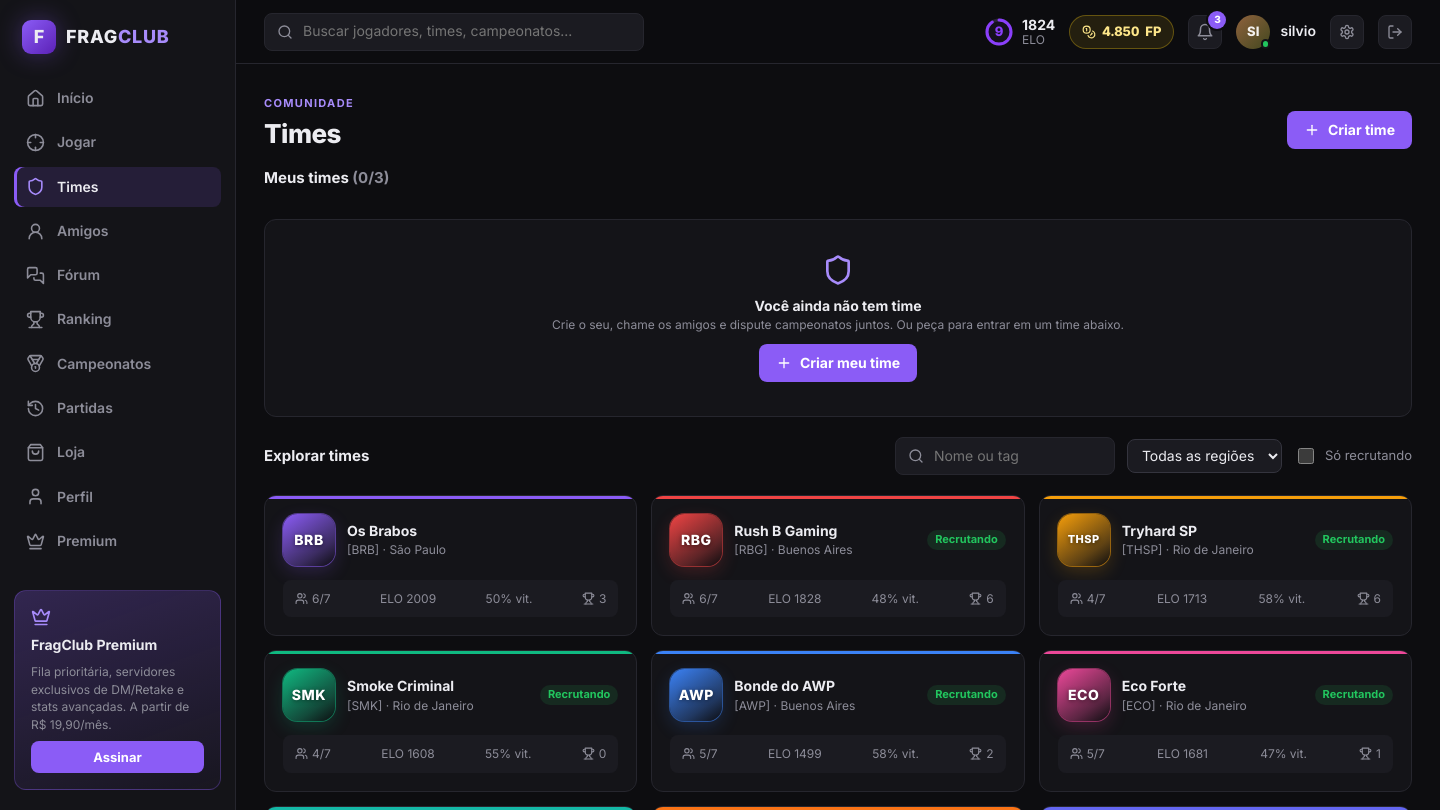
Test: fluxos › criação de time leva para a página do time com você como capitão
Click the button "Criar time": x=1349, y=130 [1287,111,1412,149]
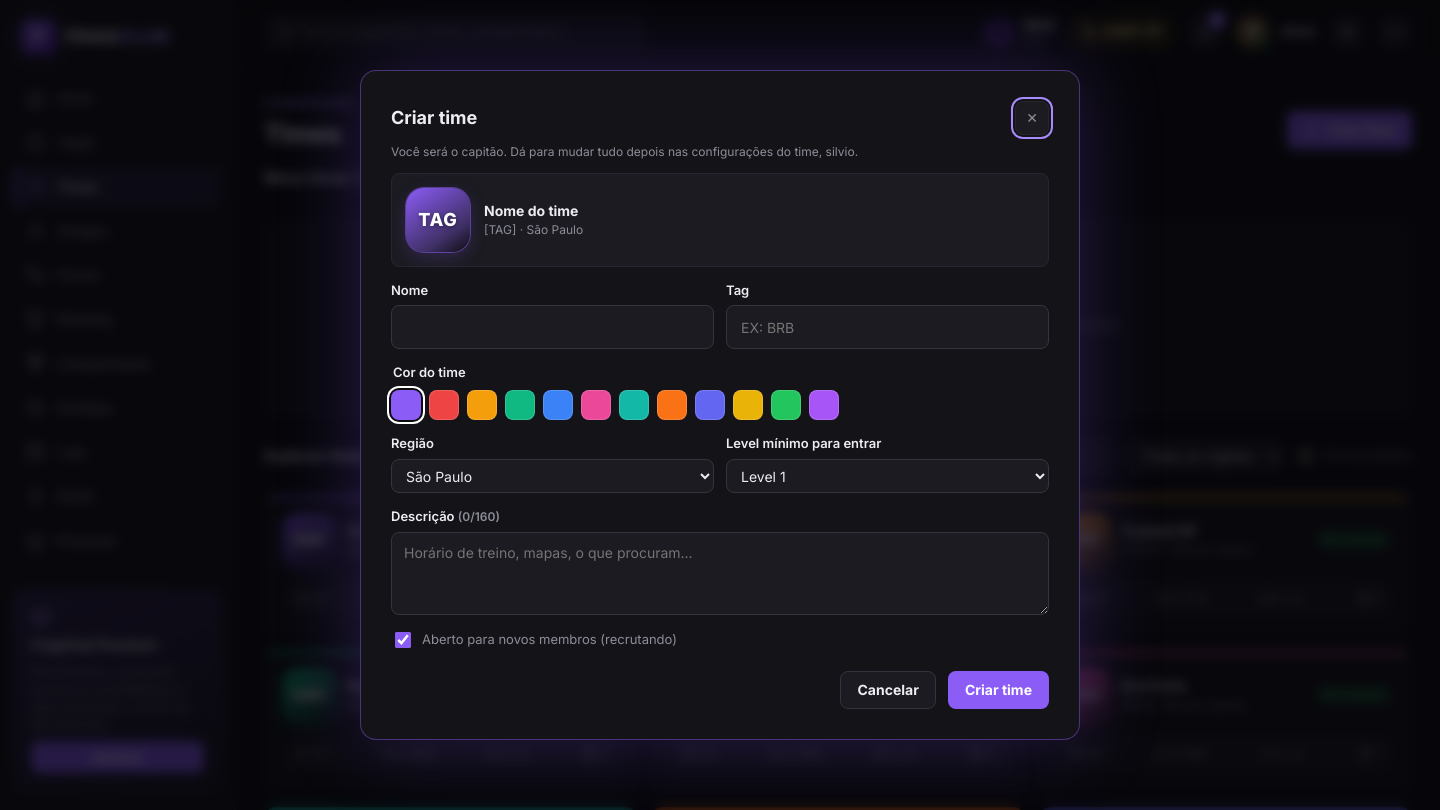
In the field labelled "Nome": x=552, y=327 [391,305,714,349], type "Os Testadores"
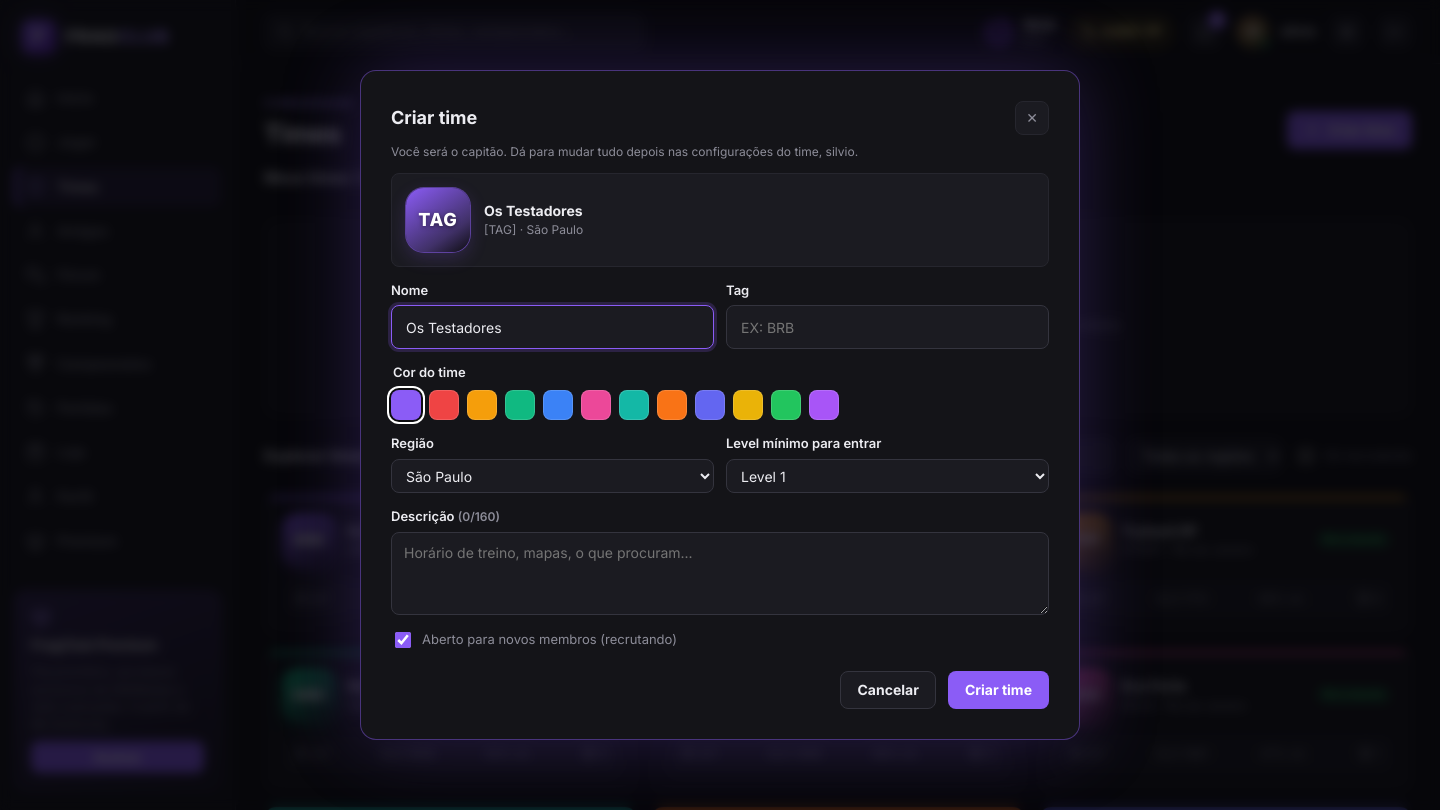
In the field labelled "Tag": x=888, y=327 [726,305,1049,349], type "tst"
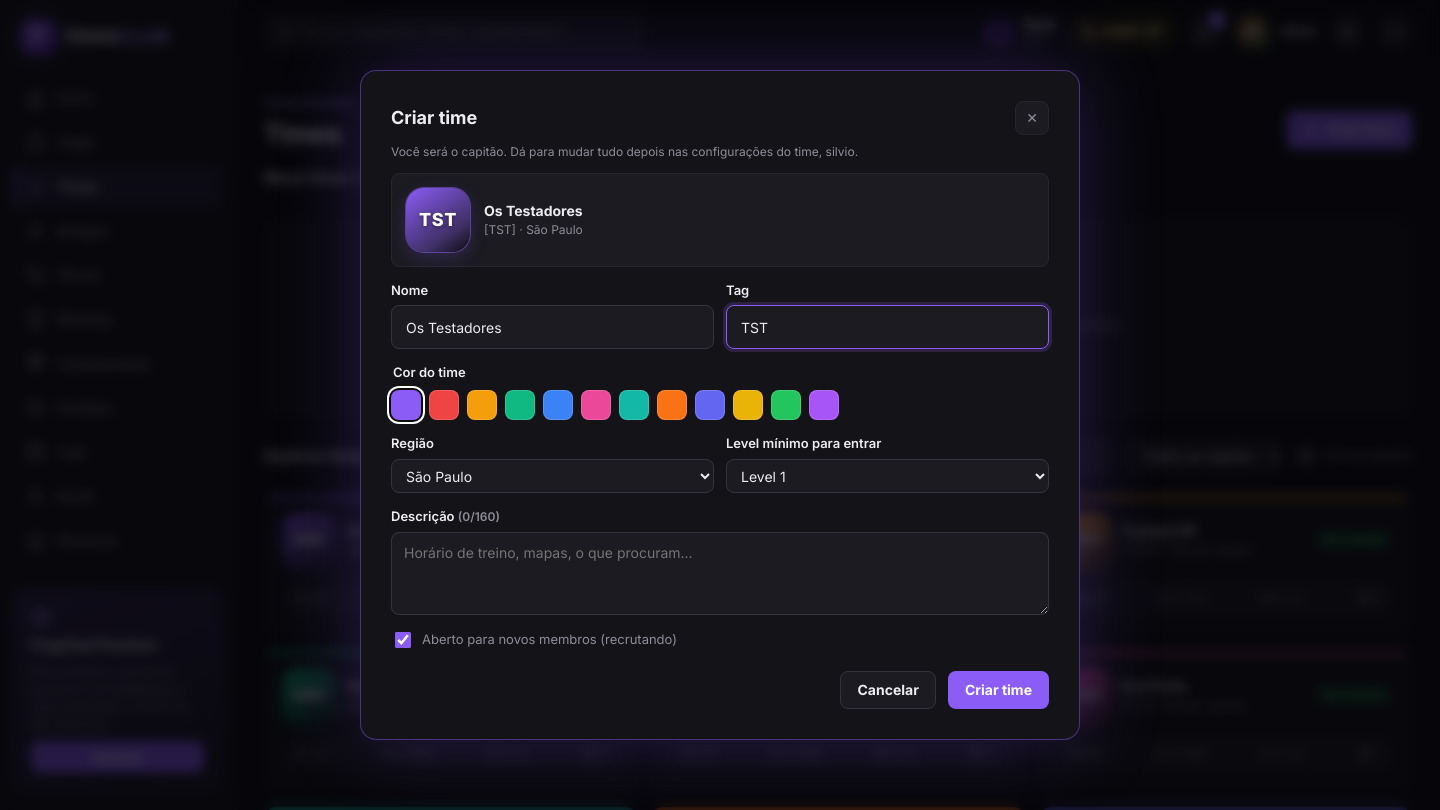
Click the button "Criar time": x=998, y=690 [948,671,1049,709]
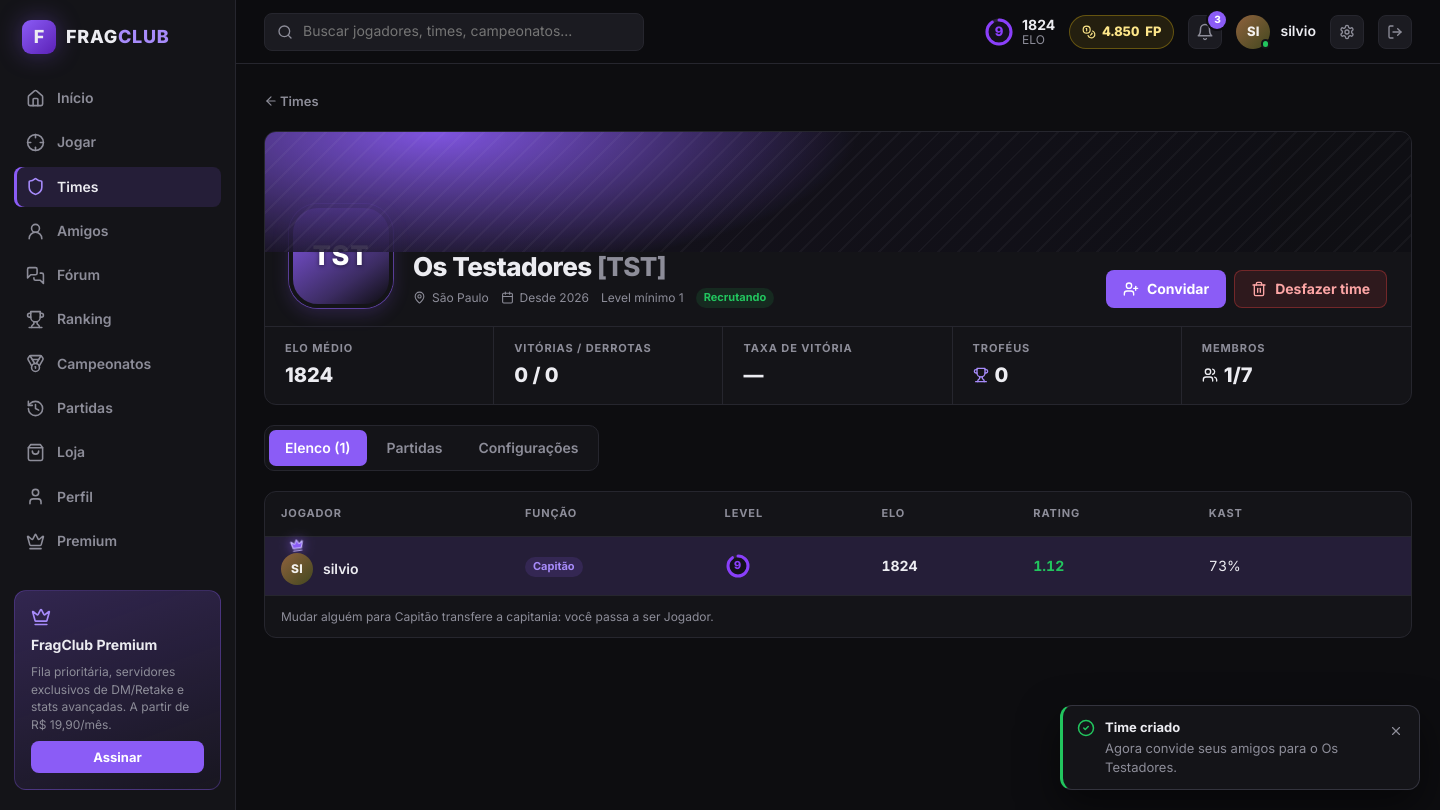
Check: the heading "Os Testadores [TST]" is shown, box [413,251,666,282]
Check: the button "Desfazer time" is shown, box [1234,270,1387,308]
Check: the text "Time criado" is shown, box [1105,720,1180,736]
